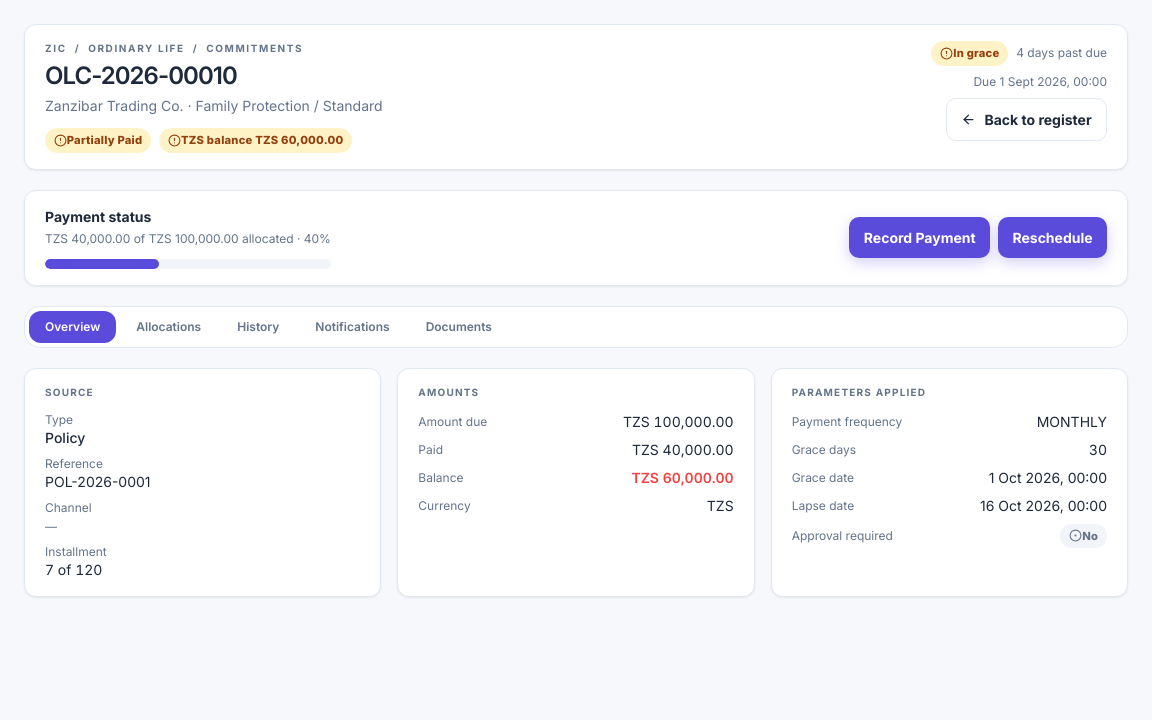
Scenario: CommitmentDetailPage › renders the notifications tab with channel and recipient badges
Expected: the heading "OLC-2026-00010" is shown, x1=45 y1=61 x2=237 y2=90
Click the button "Notifications" at (352, 327), box x1=299 y1=311 x2=406 y2=343
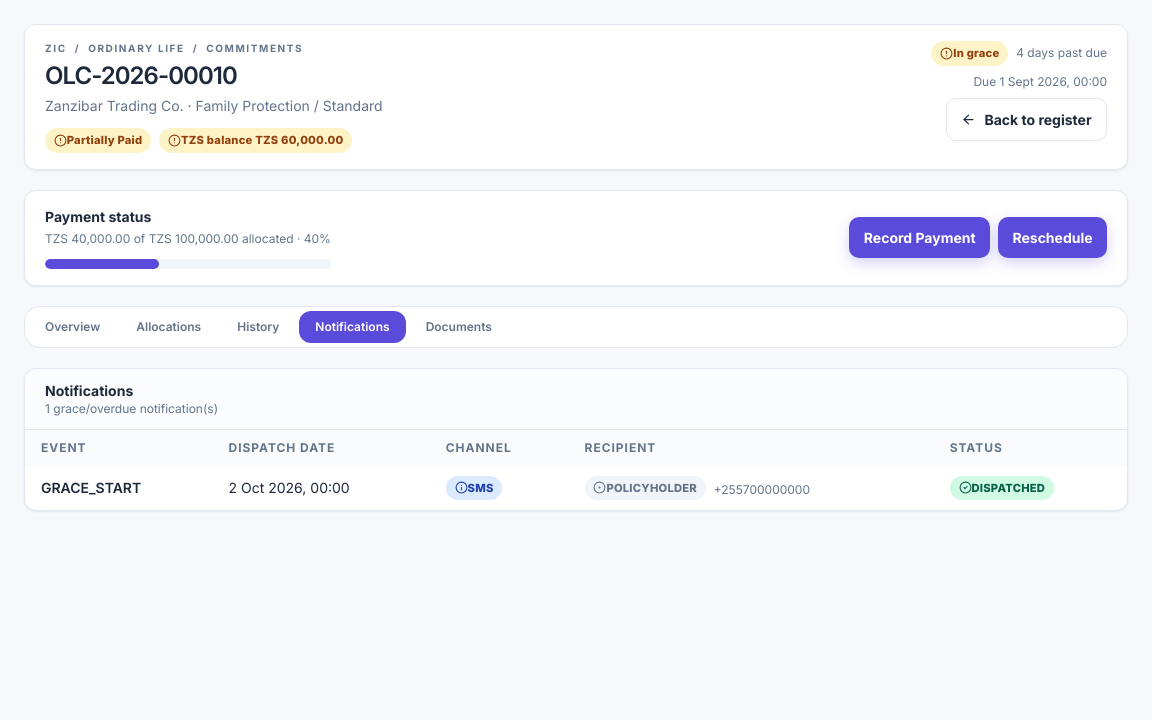
Now the text "GRACE_START" is shown, box x1=25 y1=466 x2=212 y2=510
Now the text "SMS" is shown, box x1=446 y1=476 x2=502 y2=500
Now the text "POLICYHOLDER" is shown, box x1=585 y1=476 x2=706 y2=500
